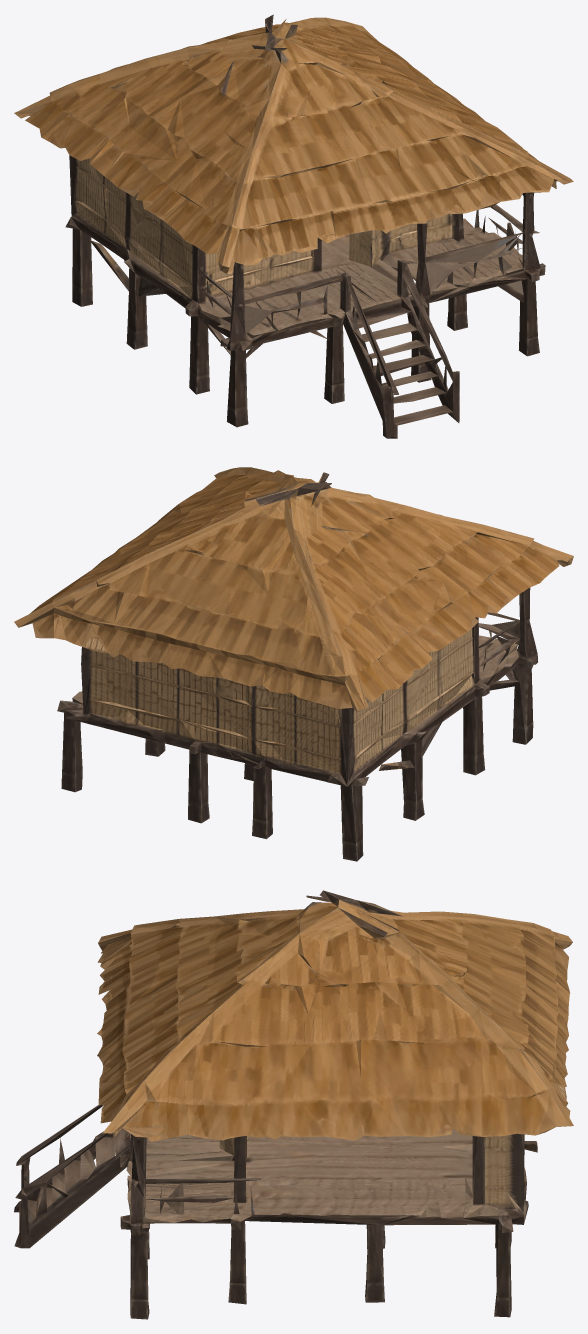
Rendered from S4_village_house_a.glb.
The picture shows the model from 3 angles, top to bottom: view 1: azimuth 30°, elevation 25°; view 2: azimuth 150°, elevation 25°; view 3: azimuth 270°, elevation 25°; orthographic projection. The views are drawn at different scales.
Visible parts, largest first — view 1: Mesh_0; view 2: Mesh_0; view 3: Mesh_0.
Part boxes in pixels (x1,y1,x2,y2): Mesh_0: (14, 14, 573, 438); Mesh_0: (14, 467, 573, 861); Mesh_0: (14, 890, 573, 1319).
Bounding box in the file's own units: 5.15 × 4 × 6.21.
Materials: 1 (1 with a texture image).
